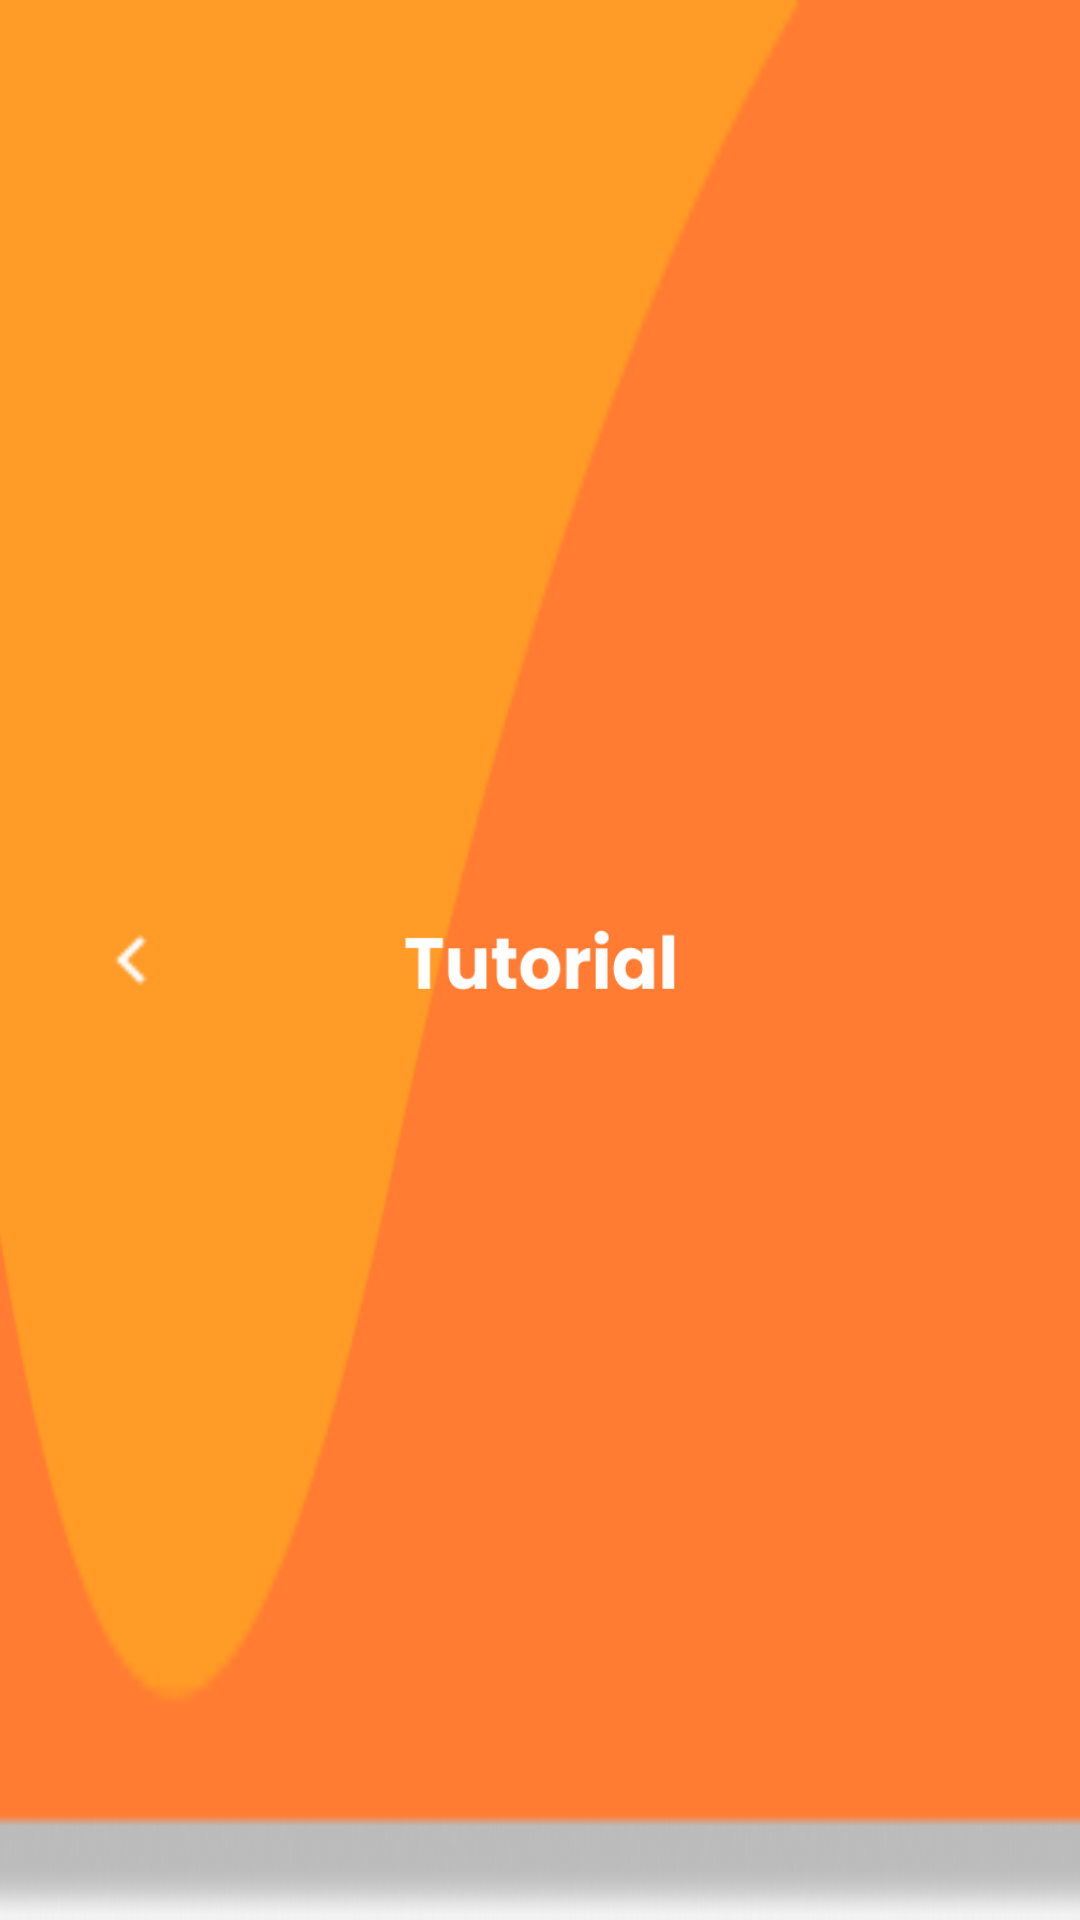

Locate icon controls on the screen. Image size 1080 × 1920, boxes as detection(x1, y1, x2, y2).
expand left: detection(116, 935, 147, 985)
